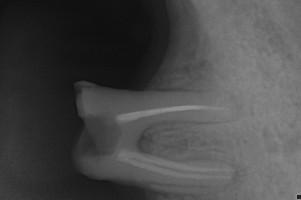Endo-Periodontal Lesion: (136, 126, 154, 155)
Furcation Involvement: (226, 161, 250, 191)
